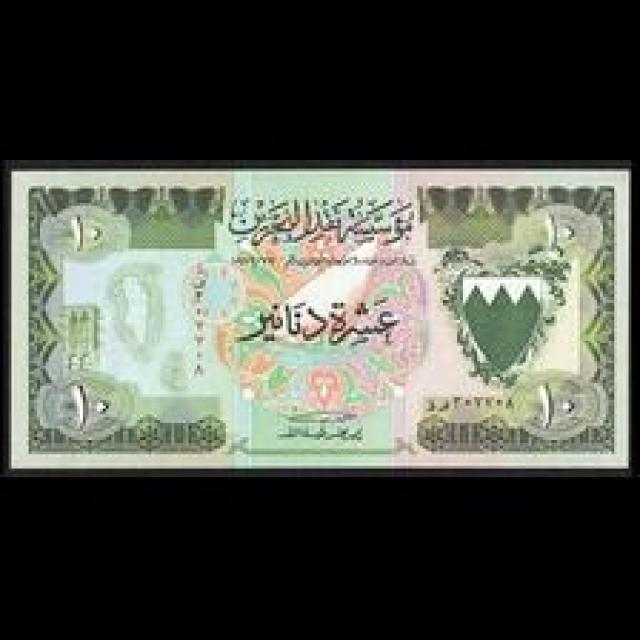banknote: (12, 170, 627, 469)
